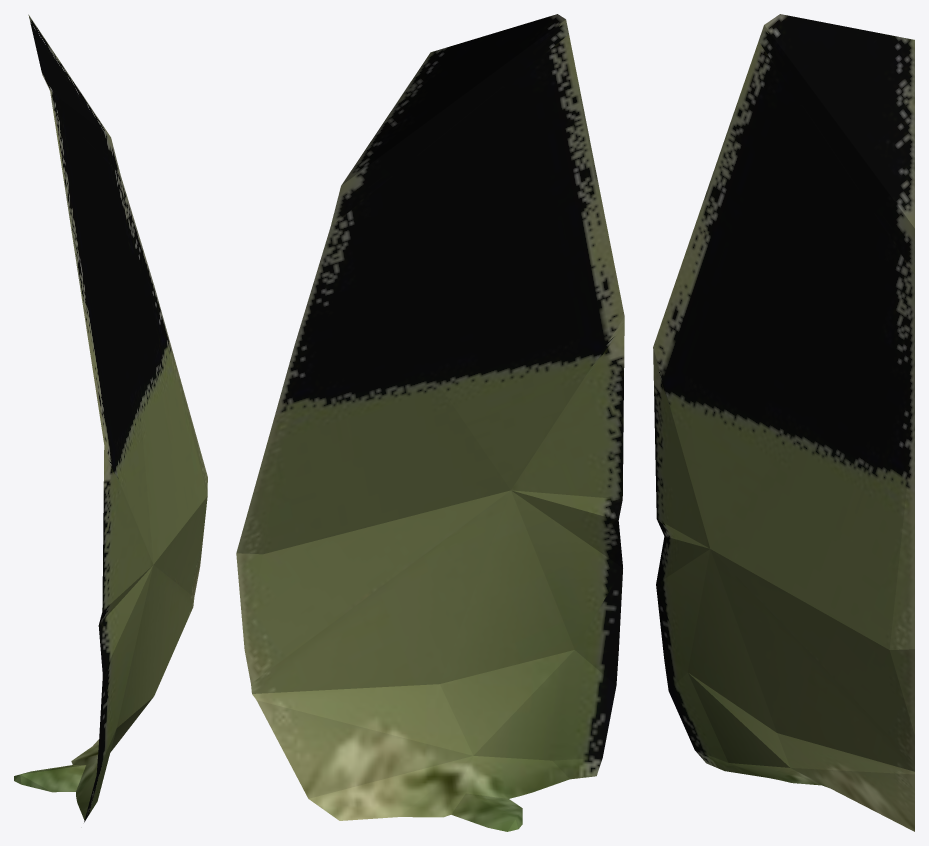
3 renders of one model, left to right at view 1: azimuth 30°, elevation 25°; view 2: azimuth 150°, elevation 25°; view 3: azimuth 270°, elevation 25°, orthographic. The views are drawn at different scales.
Bounding box in the file's own units: 1.95 × 5.9 × 1.87.
Materials: 1 (1 with a texture image).
